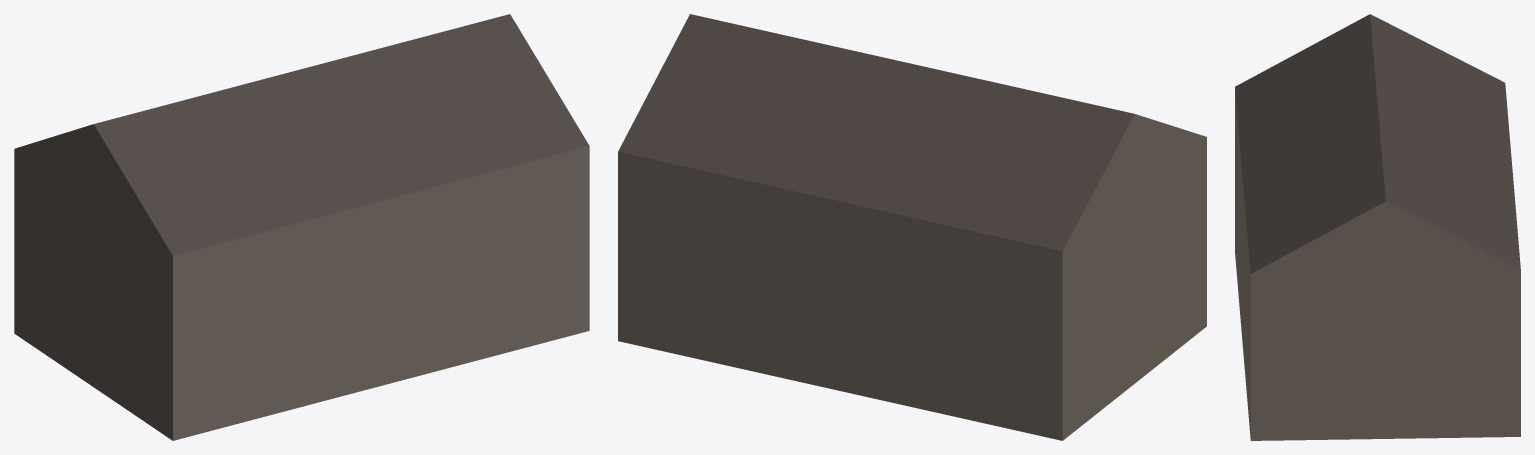
3 views of the same model, side by side, from view 1: azimuth 30°, elevation 25°; view 2: azimuth 150°, elevation 25°; view 3: azimuth 270°, elevation 25° (orthographic). The views are drawn at different scales.
Visible parts, largest first — view 1: HP-w858807433; view 2: HP-w858807433; view 3: HP-w858807433.
Boxes of the visible parts, x1,y1,x2,y2 form: HP-w858807433: [14, 14, 589, 440]; HP-w858807433: [618, 14, 1206, 440]; HP-w858807433: [1235, 14, 1520, 440].
Bounding box in the file's own units: 14.75 × 8.54 × 9.31.
